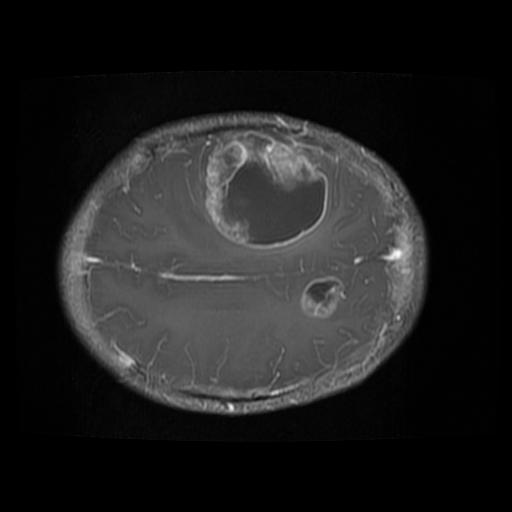glioma: (211, 148, 323, 243)
